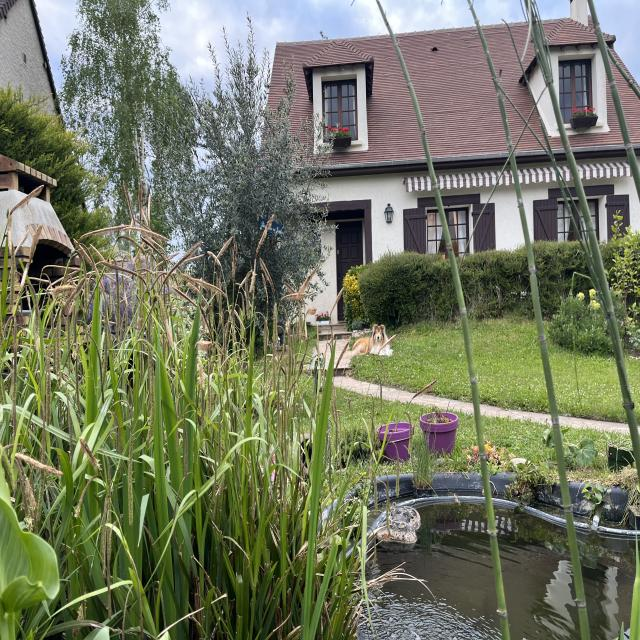Dog: (348, 310, 399, 374)
